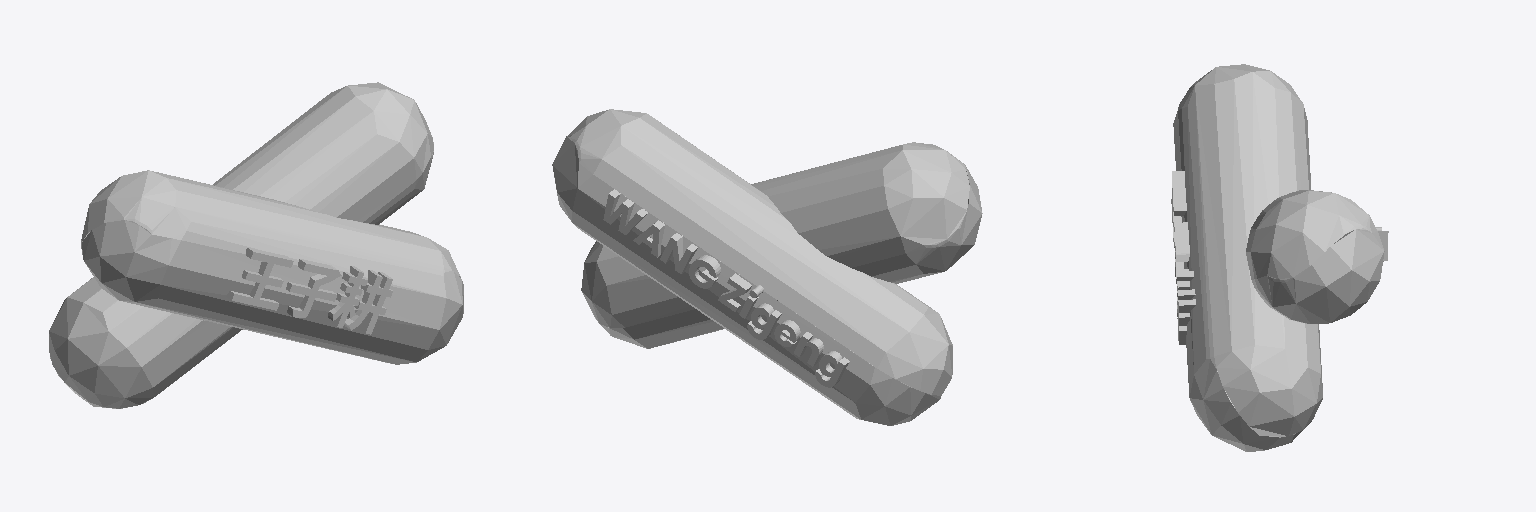
The model's file is WangZigeng.obj.
The picture shows the model from 3 angles: view 1: azimuth 30°, elevation 25°; view 2: azimuth 150°, elevation 25°; view 3: azimuth 270°, elevation 25°; orthographic projection.
Parts seen in each view (by area): view 1: root_3, root_2, node_id942; view 2: root_2, root_3, node_id953; view 3: root_3, root_2, node_id942.
Boxes of the visible parts, box(x1,y1,x2,y2) form: root_3: box(81, 170, 463, 364); root_2: box(49, 82, 433, 408); node_id942: box(226, 247, 392, 334); root_2: box(552, 109, 952, 425); root_3: box(581, 142, 982, 348); node_id953: box(603, 189, 849, 387); root_3: box(1173, 64, 1322, 451); root_2: box(1246, 190, 1384, 323); node_id942: box(1171, 171, 1195, 344).
Bounding box in the file's own units: 0.289 × 0.1836 × 0.144.